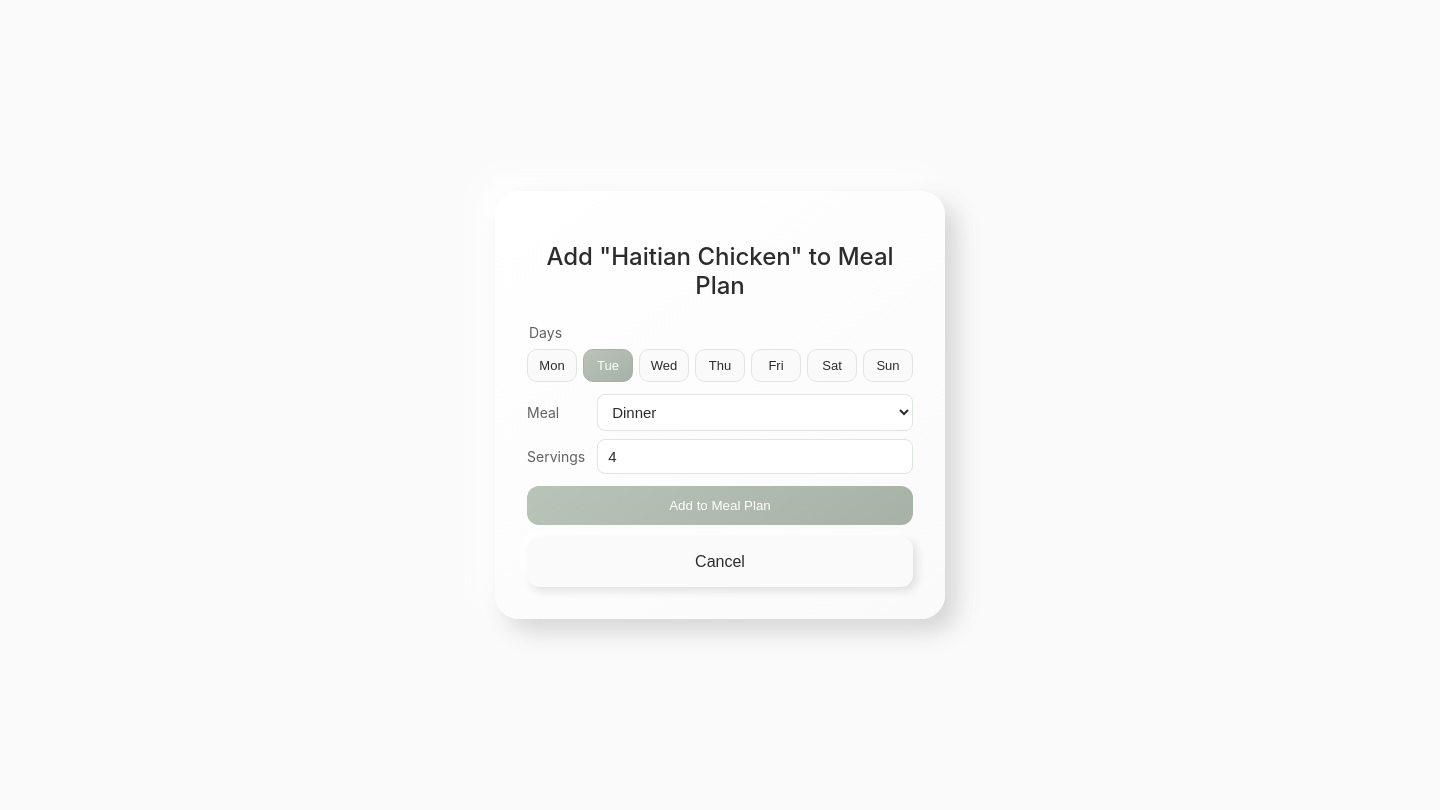
Test: starts on the first open day and warns before replacing a different meal
This screenshot has width=1440, height=810.
Click the button with aria-label "Monday" at (552, 366), box [527,350,577,382]
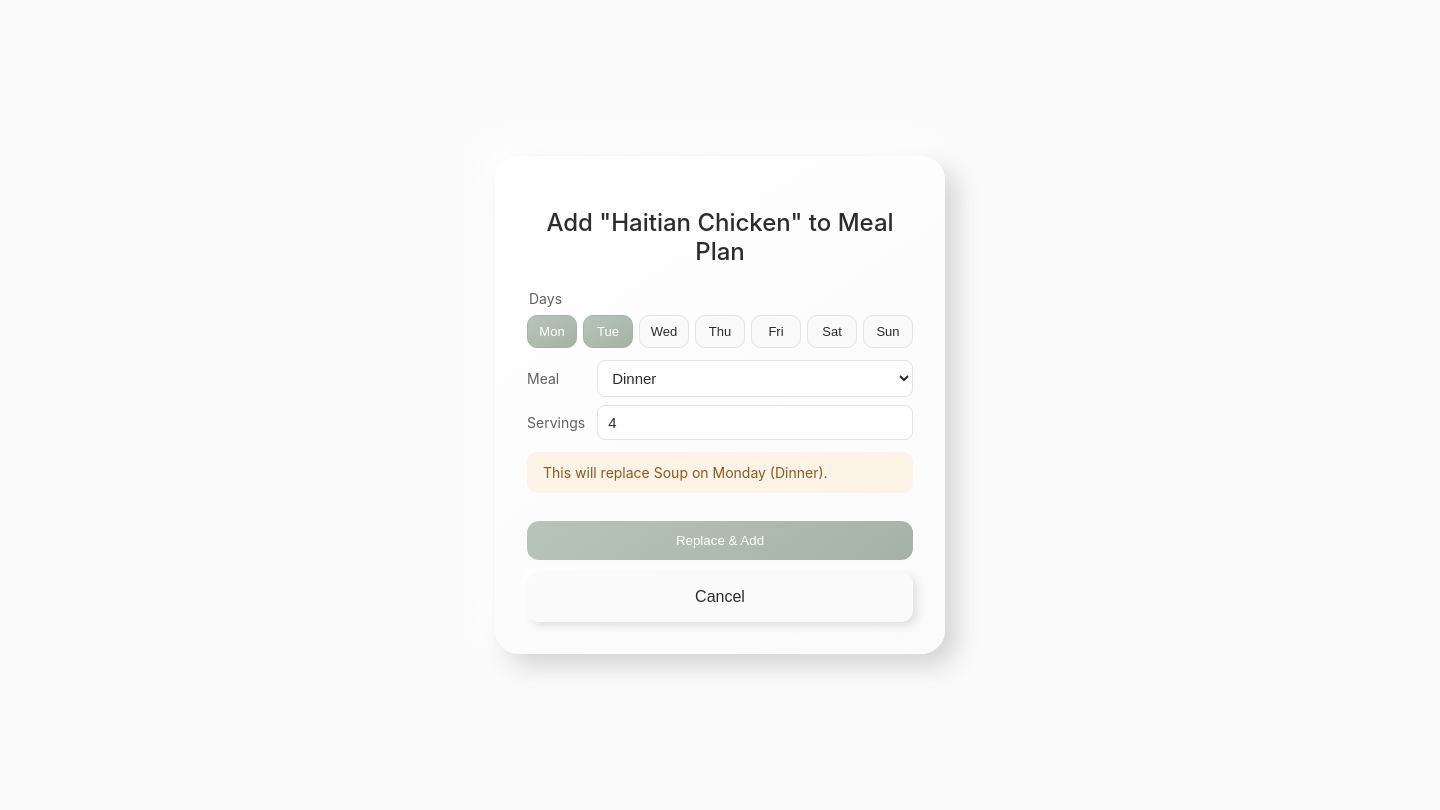
Expected: the message reads "This will replace Soup on Monday (Dinner).", [527,452,913,493]
Expected: the button "Replace & Add" is shown, [527,521,913,560]
